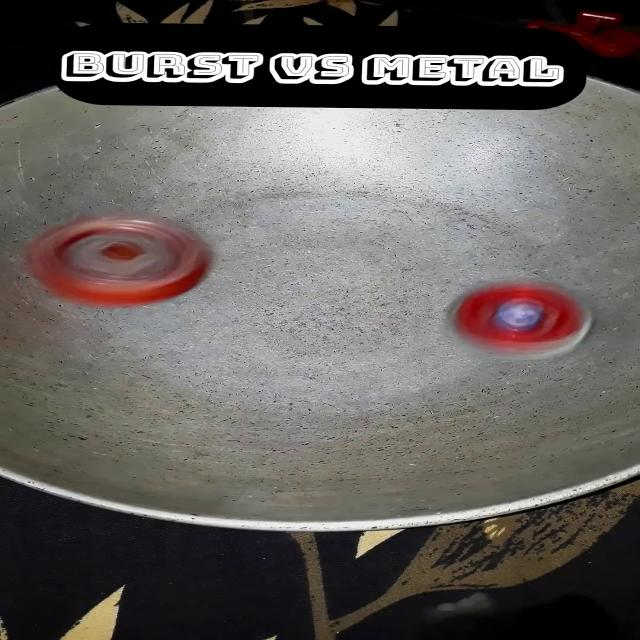beyblade: (15, 198, 228, 326), (424, 257, 602, 371)
